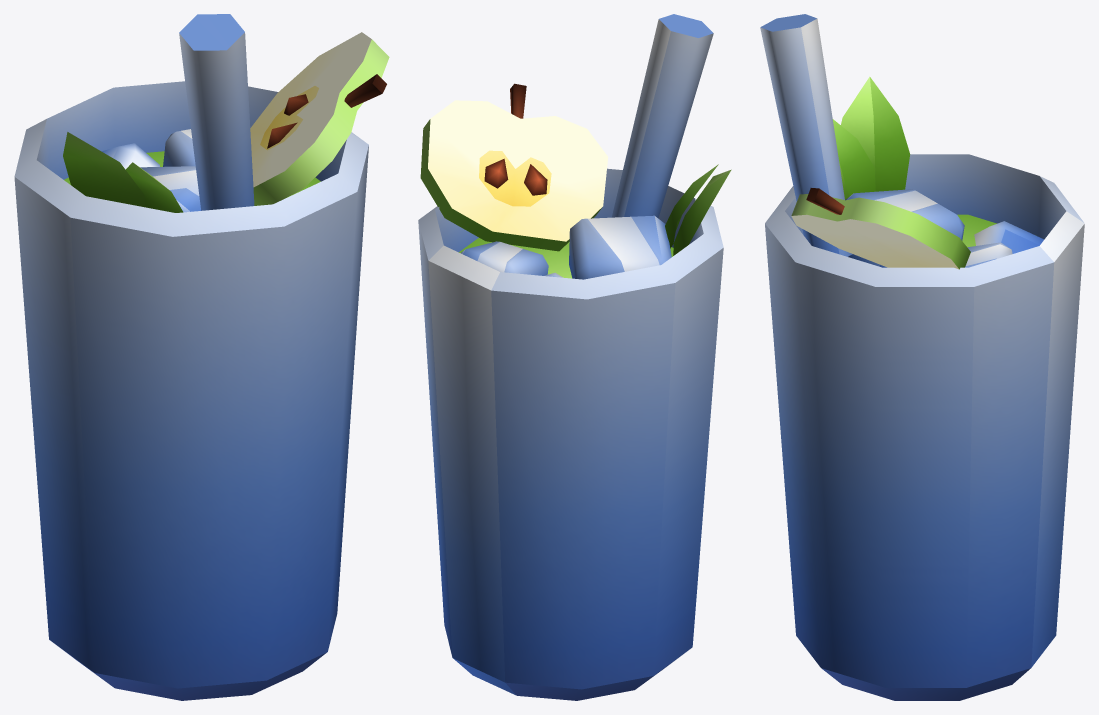
The model's file is m_AppleCocktail01.fbx.
3 renders of one model, left to right at view 1: azimuth 30°, elevation 25°; view 2: azimuth 150°, elevation 25°; view 3: azimuth 270°, elevation 25°, orthographic. The views are drawn at different scales.
Visible parts, largest first — view 1: m_AppleCocktail01; view 2: m_AppleCocktail01; view 3: m_AppleCocktail01.
Part boxes in pixels (<box>): m_AppleCocktail01: <box>14,14,389,700</box>; m_AppleCocktail01: <box>418,14,731,700</box>; m_AppleCocktail01: <box>760,14,1084,700</box>.
Bounding box in the file's own units: 13.86 × 27.58 × 13.17.
